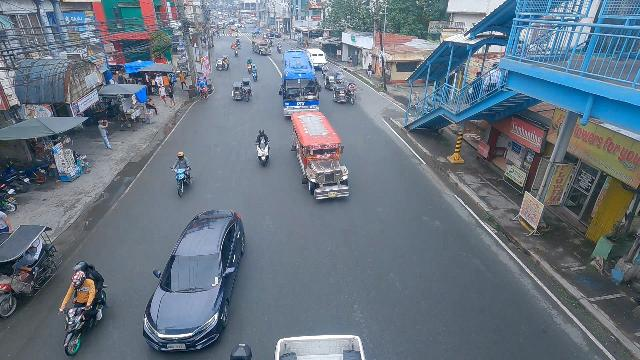bus: (281, 50, 320, 119)
car: (141, 209, 246, 353)
jeepney: (289, 111, 352, 203), (251, 38, 272, 56)
motorcycle: (58, 268, 108, 360), (169, 150, 194, 197), (253, 130, 271, 167), (251, 66, 260, 83), (246, 58, 252, 72), (276, 42, 282, 53), (233, 48, 239, 58), (233, 28, 238, 37), (228, 28, 233, 36)
van: (306, 48, 327, 69)
